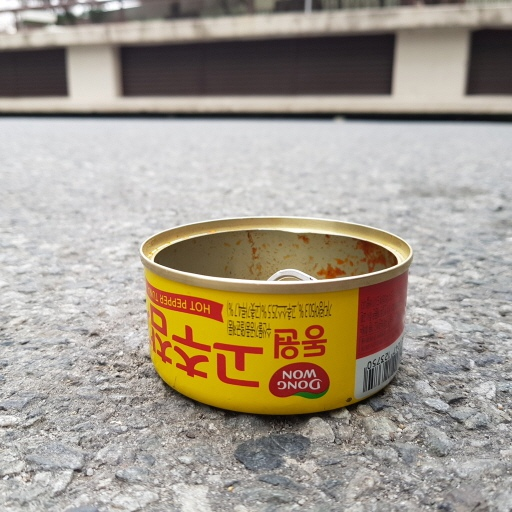Metal_1: (140, 216, 412, 415)
